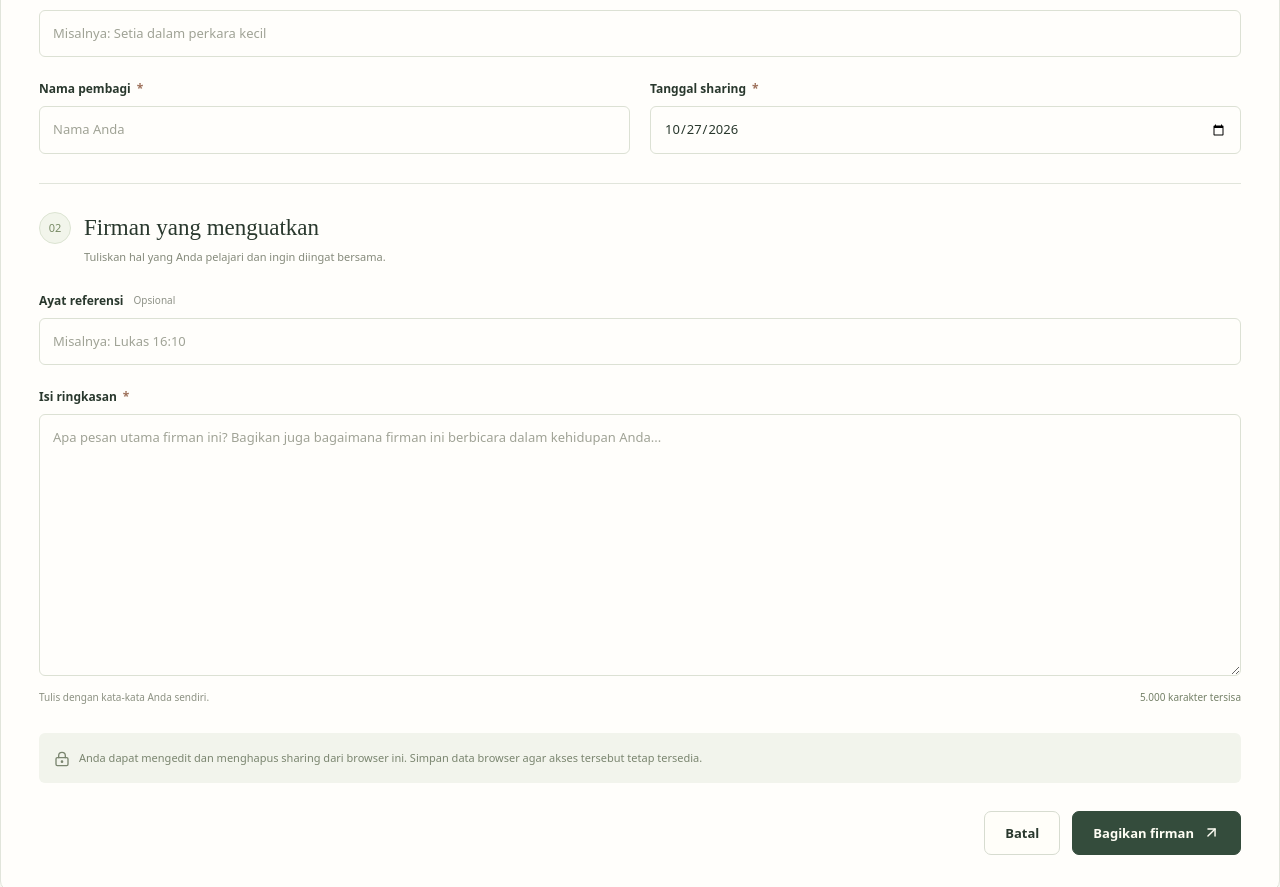
Test: form reports all blank fields and never submits invalid input
The width and height of the screenshot is (1280, 887).
(page scrolled)
Click the button "Bagikan firman" at (1157, 833), box top-left (1072, 811), bottom-right (1241, 855)
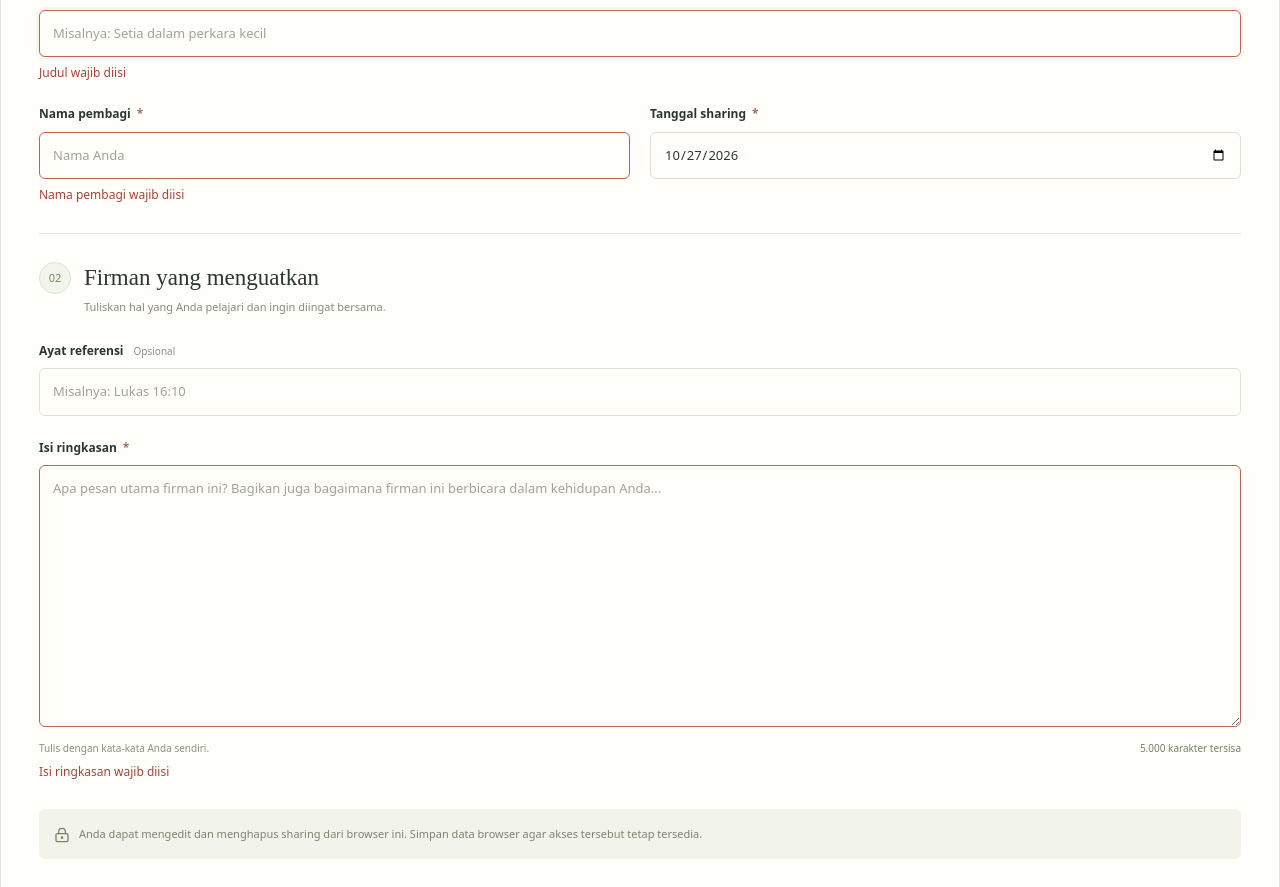
Check: the text "Judul wajib diisi" is shown, box top-left (39, 64), bottom-right (126, 81)
Check: the text "Nama pembagi wajib diisi" is shown, box top-left (39, 186), bottom-right (184, 203)
Check: the text "Isi ringkasan wajib diisi" is shown, box top-left (39, 762), bottom-right (169, 780)
